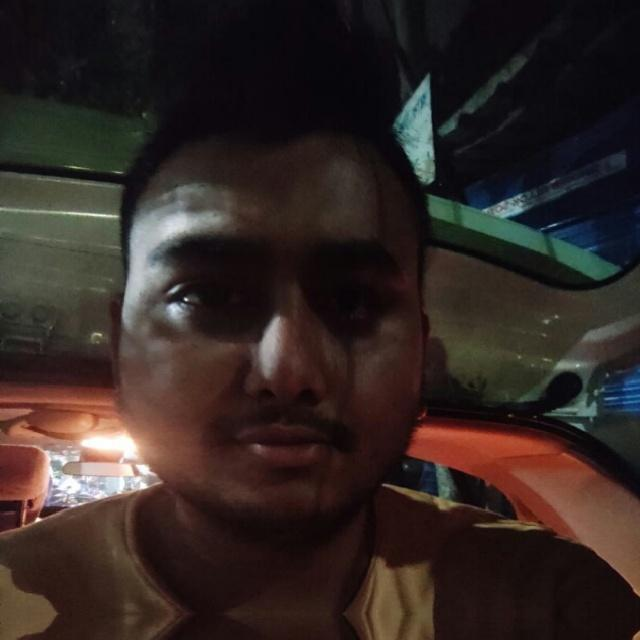Natural: (103, 114, 418, 560)
